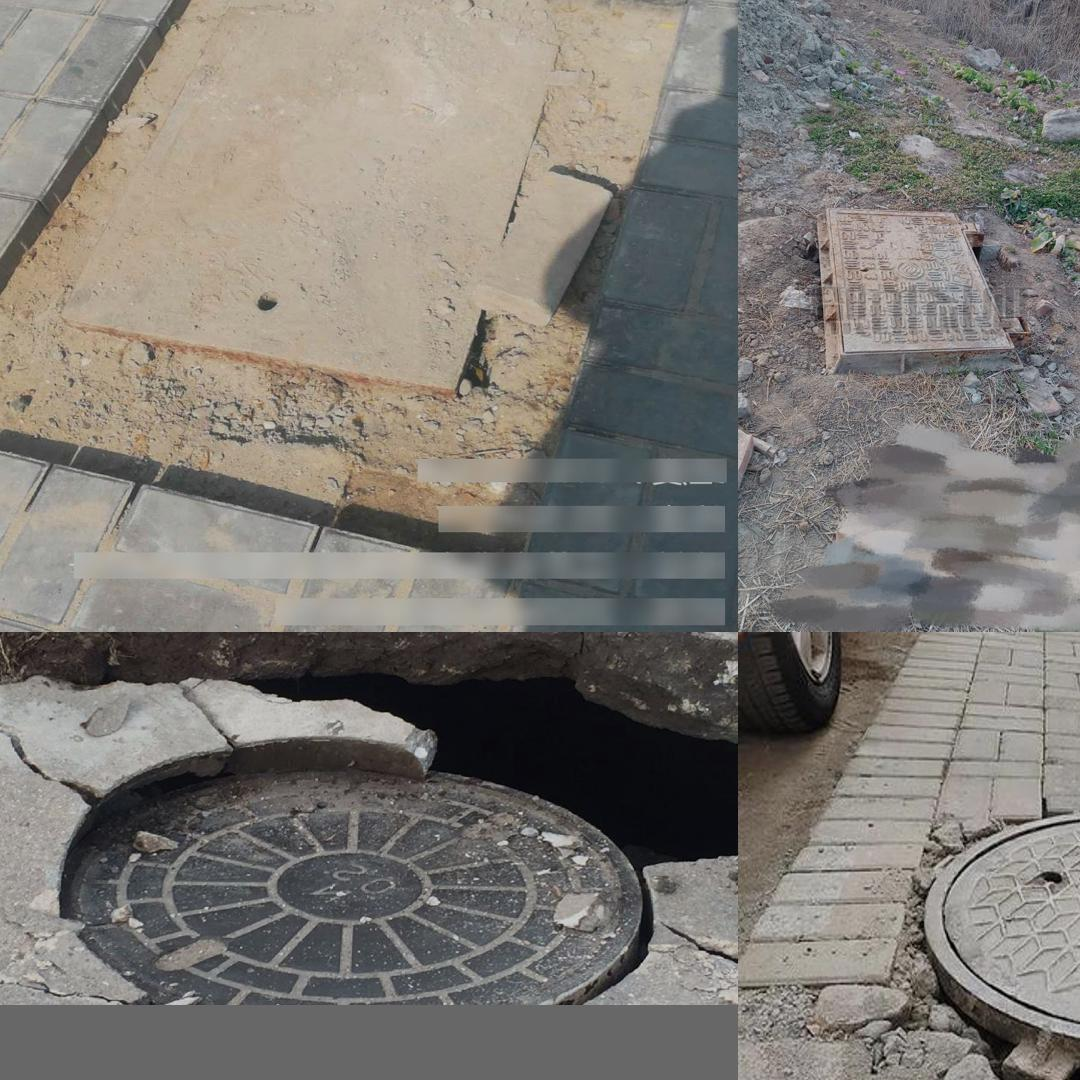circle: (0, 0, 686, 485), (0, 646, 724, 1000), (846, 791, 1080, 1080), (809, 202, 1031, 378)
